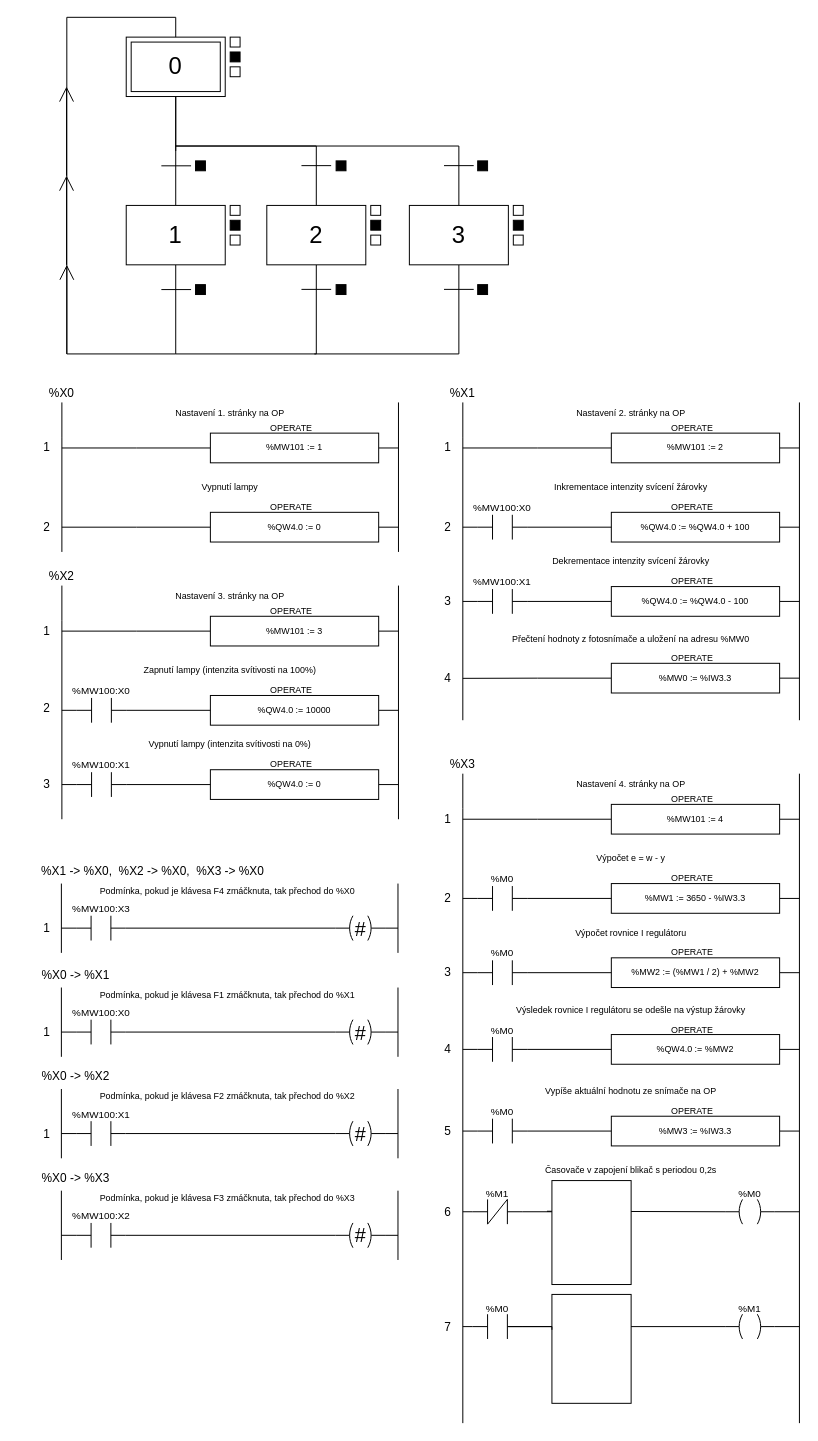
Image size: 818x1441. Some labels were removed from this diagram. Here are the shapes that lost their labels. From the top down, the centre of each, then its label:
At pixel 591 1232: "%TM0 IN Q TYPE TON TB 100 ms ADJ Y %TM0.P 1".
At pixel 591 1348: "%TM1 IN Q TYPE TON TB 100 ms ADJ Y %TM1.P 1".
